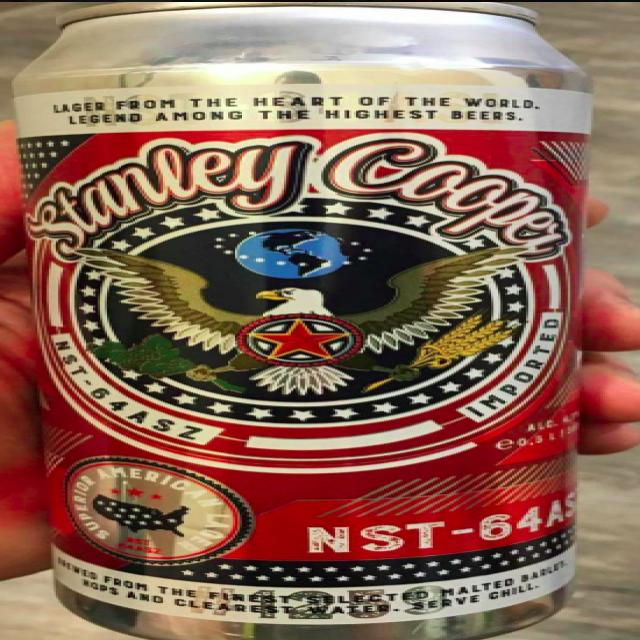Stanley Cooper: (2, 1, 640, 640)
